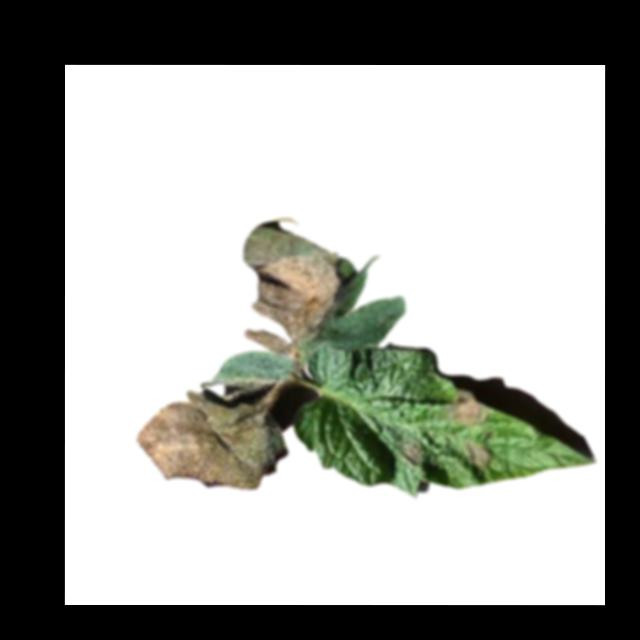Late_blight: (137, 387, 289, 491), (242, 218, 345, 357), (450, 391, 488, 427), (466, 443, 493, 469), (405, 442, 424, 466)
